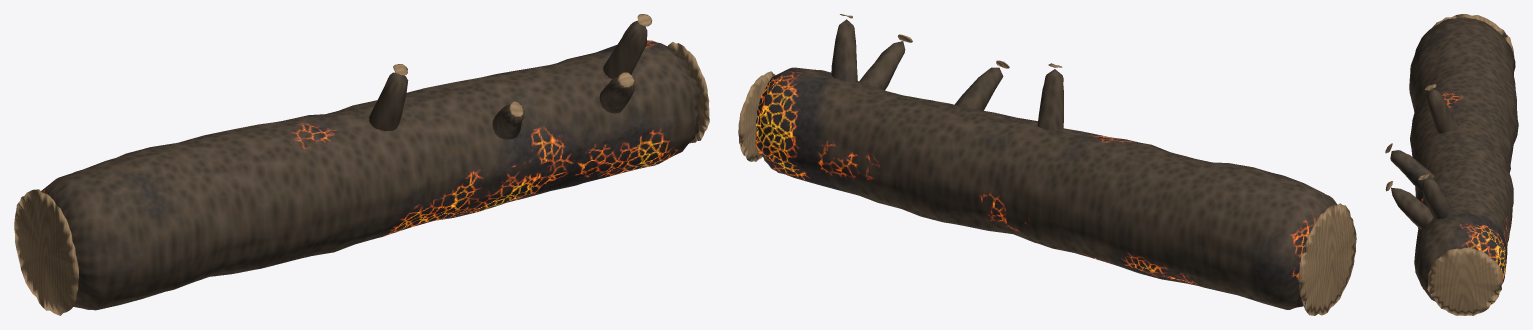
The model's file is log.glb.
3 renders of one model, left to right at view 1: azimuth 30°, elevation 25°; view 2: azimuth 150°, elevation 25°; view 3: azimuth 270°, elevation 25°, orthographic. The views are drawn at different scales.
Visible parts, largest first — view 1: AR_log; view 2: AR_log; view 3: AR_log.
Boxes of the visible parts, x1,y1,x2,y2 form: AR_log: [14, 14, 709, 315]; AR_log: [738, 14, 1356, 315]; AR_log: [1385, 14, 1518, 315].
Bounding box in the file's own units: 3.04 × 0.8319 × 0.7441.
1 material, 1 textured.
